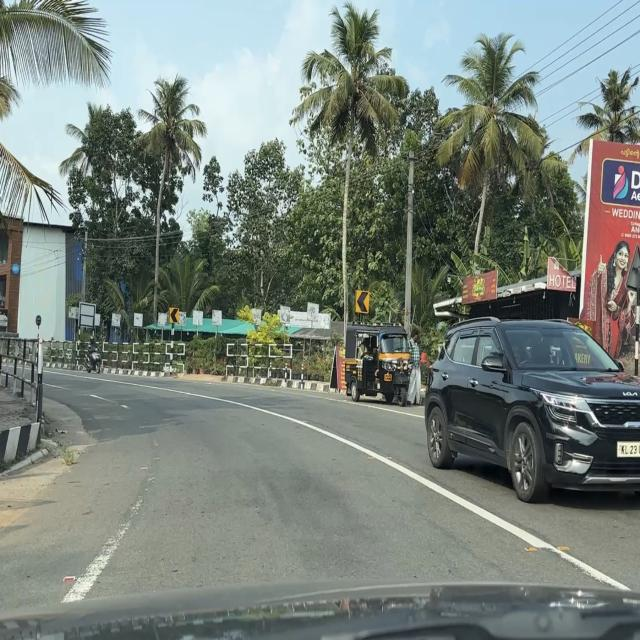TURN_LEFT: (356, 290, 370, 314), (170, 308, 180, 324)
